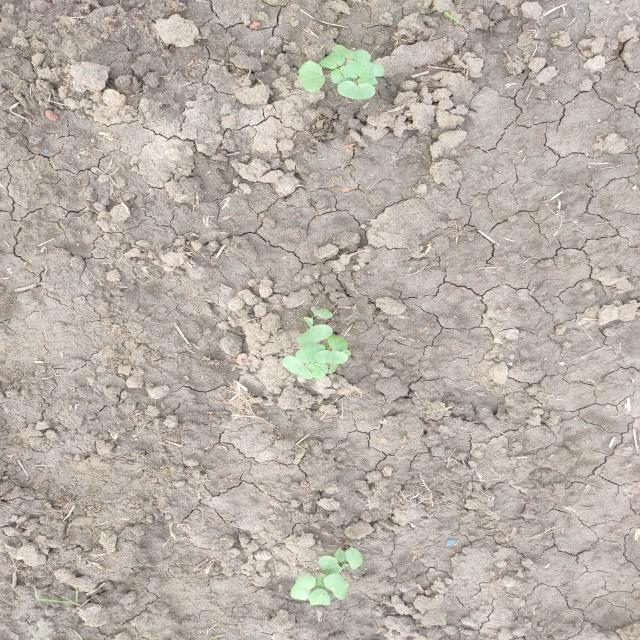seedling_s4: (296, 324, 333, 347), (298, 61, 325, 92), (282, 355, 312, 380), (337, 80, 375, 99), (290, 574, 316, 600), (324, 573, 349, 600), (355, 56, 385, 77), (332, 44, 371, 60), (295, 343, 321, 364), (313, 350, 348, 364), (319, 52, 345, 69), (319, 556, 342, 575), (330, 66, 353, 84), (305, 362, 328, 380), (345, 547, 363, 570), (344, 60, 365, 79), (308, 588, 330, 605), (327, 335, 348, 351), (357, 71, 378, 86), (311, 307, 332, 318), (316, 573, 327, 589), (335, 548, 347, 562)
